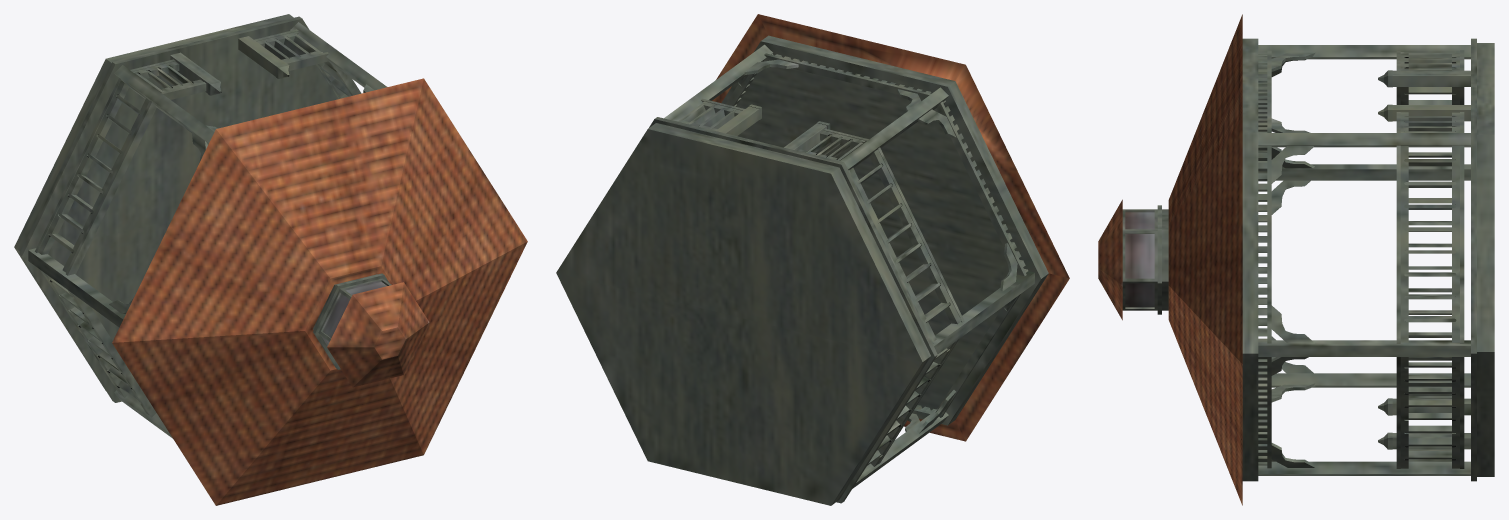
File: 10073_Gazebo_V2_L3.obj
3 renders of one model, left to right at view 1: azimuth 30°, elevation 25°; view 2: azimuth 150°, elevation 25°; view 3: azimuth 270°, elevation 25°, orthographic. The views are drawn at different scales.
Parts seen in each view (by area): view 1: 10073_Gazebo_V2_Max2011; view 2: 10073_Gazebo_V2_Max2011; view 3: 10073_Gazebo_V2_Max2011.
Part boxes in pixels (bbox=[...]): 10073_Gazebo_V2_Max2011: bbox=[14, 14, 527, 505]; 10073_Gazebo_V2_Max2011: bbox=[556, 14, 1069, 505]; 10073_Gazebo_V2_Max2011: bbox=[1098, 14, 1494, 505].
Size of the model in its own units: 597 by 517 by 479.
1 material, 1 textured.
